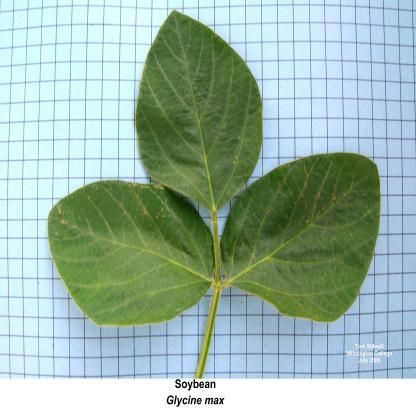Soyabean leaf: (222, 150, 380, 326), (134, 6, 266, 216), (44, 177, 215, 331)
